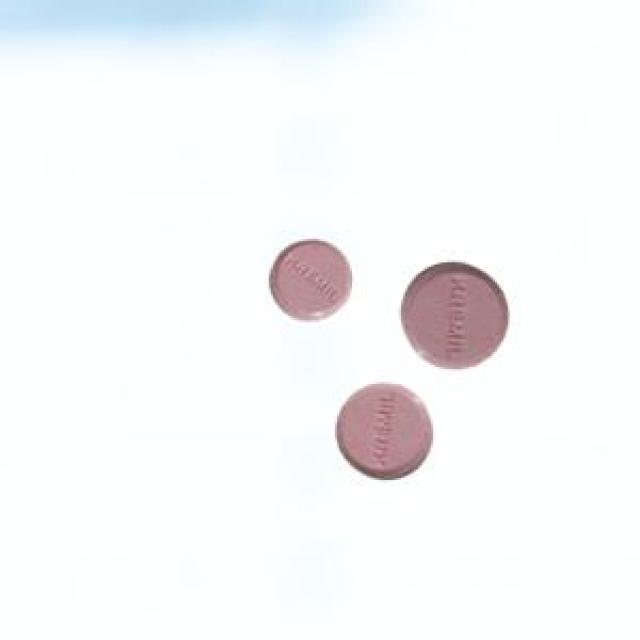Kremil_S: (396, 256, 523, 376), (312, 376, 446, 486), (262, 232, 362, 331)
